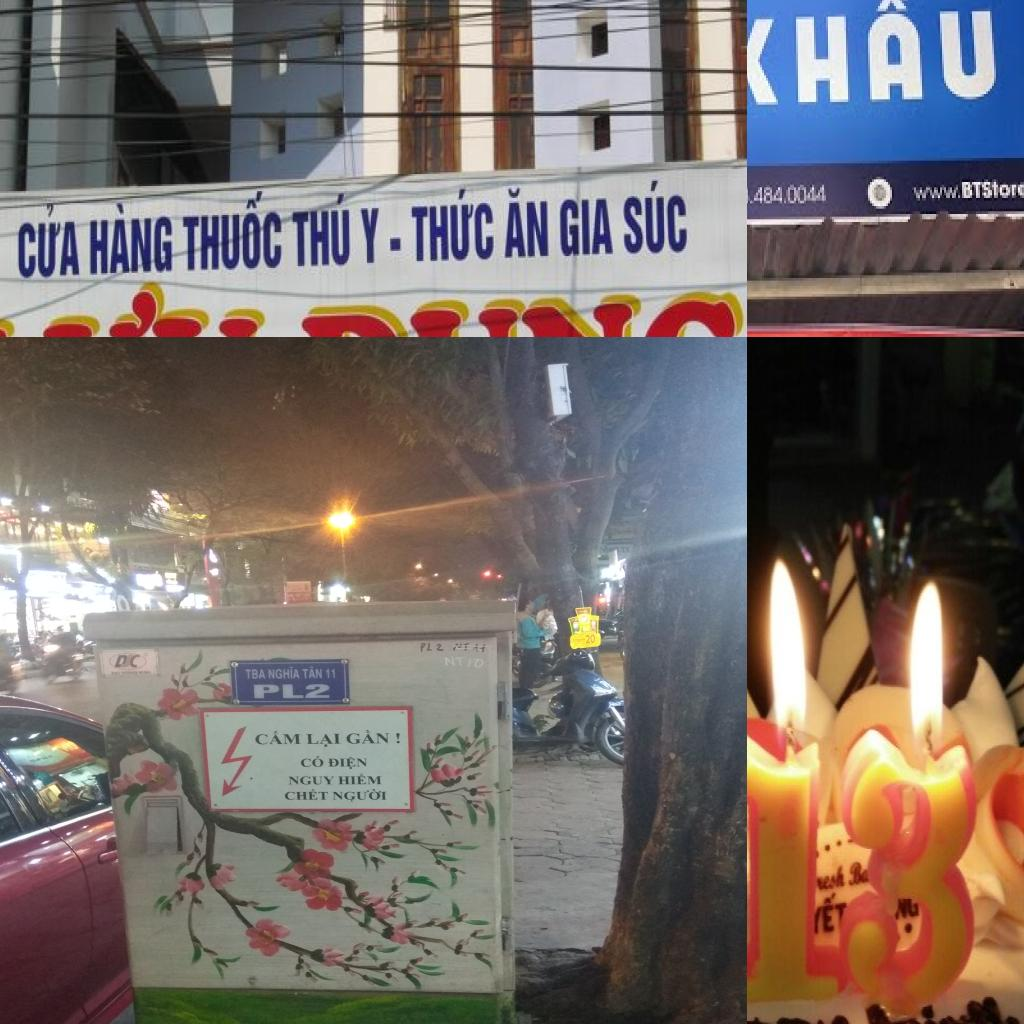text: (747, 0, 1010, 128), (291, 283, 747, 337), (0, 283, 262, 337), (180, 184, 285, 278), (407, 181, 499, 268), (86, 198, 178, 283), (14, 201, 86, 287), (619, 178, 692, 260), (288, 184, 354, 273), (556, 193, 616, 263), (908, 174, 1024, 208), (502, 183, 552, 261), (747, 179, 832, 213), (357, 205, 386, 271), (253, 684, 330, 699), (818, 889, 840, 937), (822, 862, 848, 896), (847, 857, 870, 889), (256, 730, 302, 745), (332, 788, 387, 800), (347, 730, 390, 744), (443, 656, 485, 669), (338, 773, 382, 785), (328, 757, 367, 770), (306, 734, 341, 748), (284, 789, 328, 800), (268, 666, 301, 679), (288, 776, 334, 785), (299, 756, 324, 767), (420, 642, 445, 653), (301, 666, 322, 679), (245, 669, 266, 680), (324, 669, 336, 679), (584, 634, 596, 644), (573, 637, 586, 644), (121, 670, 137, 675), (138, 670, 152, 674), (396, 733, 400, 744), (110, 671, 120, 675)
